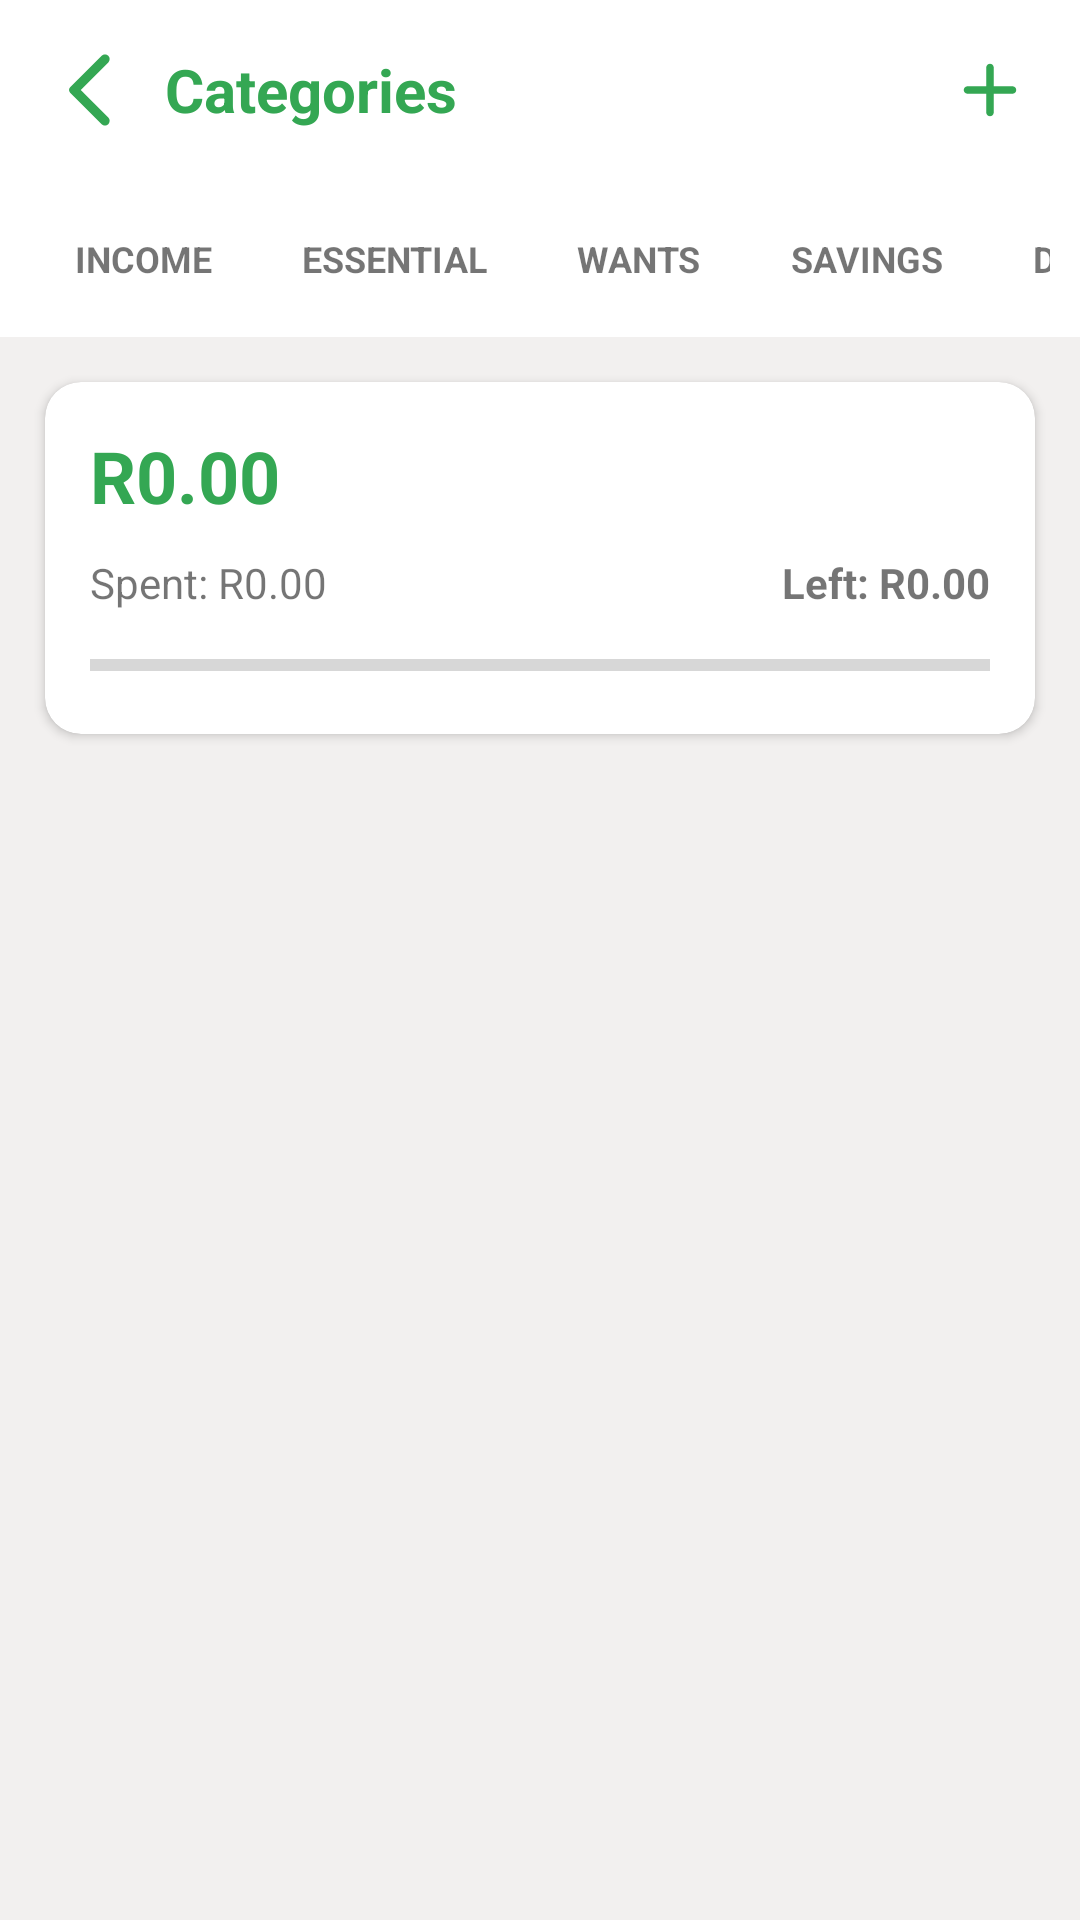

Locate icon controls on the screen. Image size 1080 × 1920, boxes as (x1, y1, x2, y2).
add: (963, 63, 1017, 117)
arrow back: (69, 54, 110, 126)
